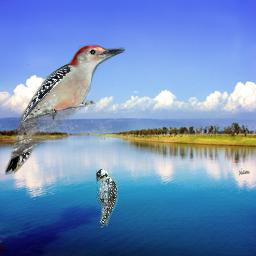Woodpecker: (5, 44, 125, 175), (96, 169, 118, 228)
